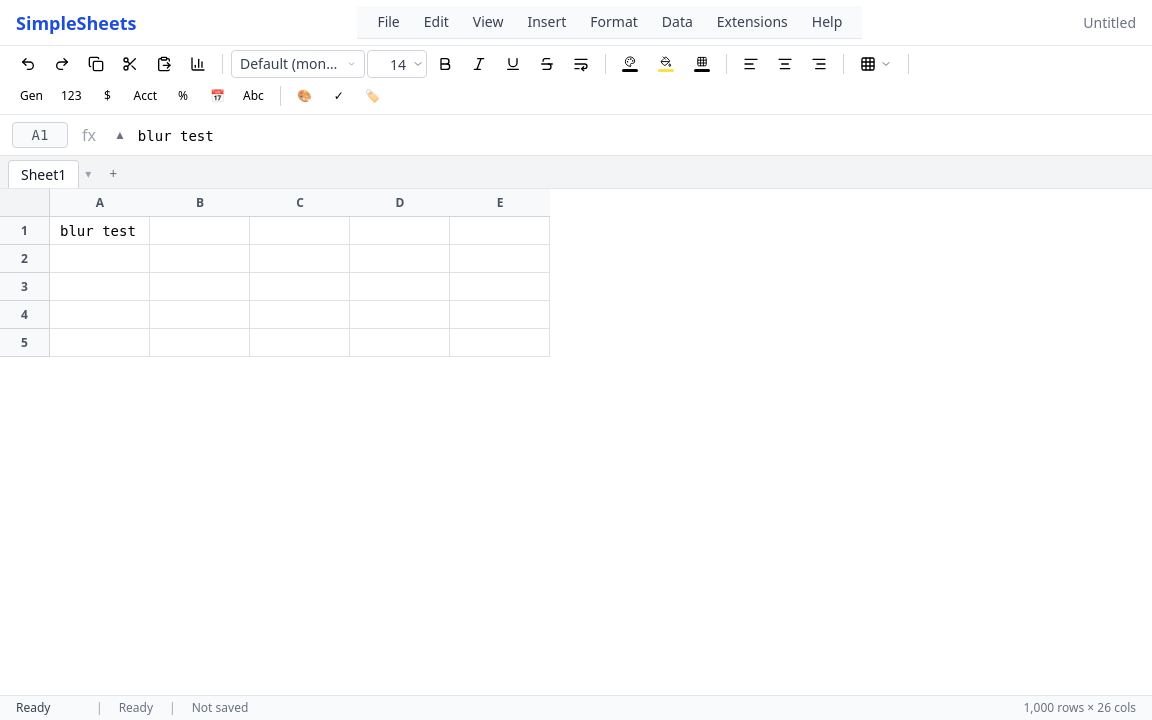
Test: App - Cut Handler Deletes Source Cells › clears source cells after cut
Note: Put a value in A1
Press the mouse on the element with class "grid-cell" showing "blur test" at (100, 231), box [50,217,150,245]
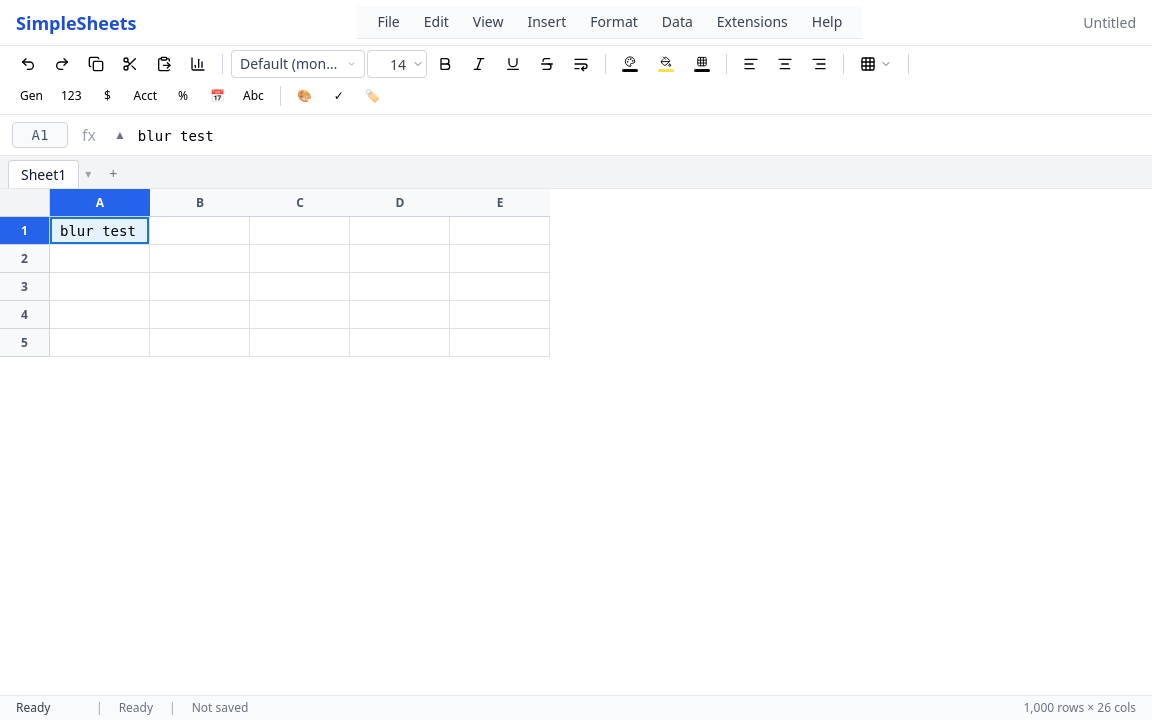
Double-click the element with class "grid-cell" showing "blur test" at (100, 231), box [50,217,150,245]
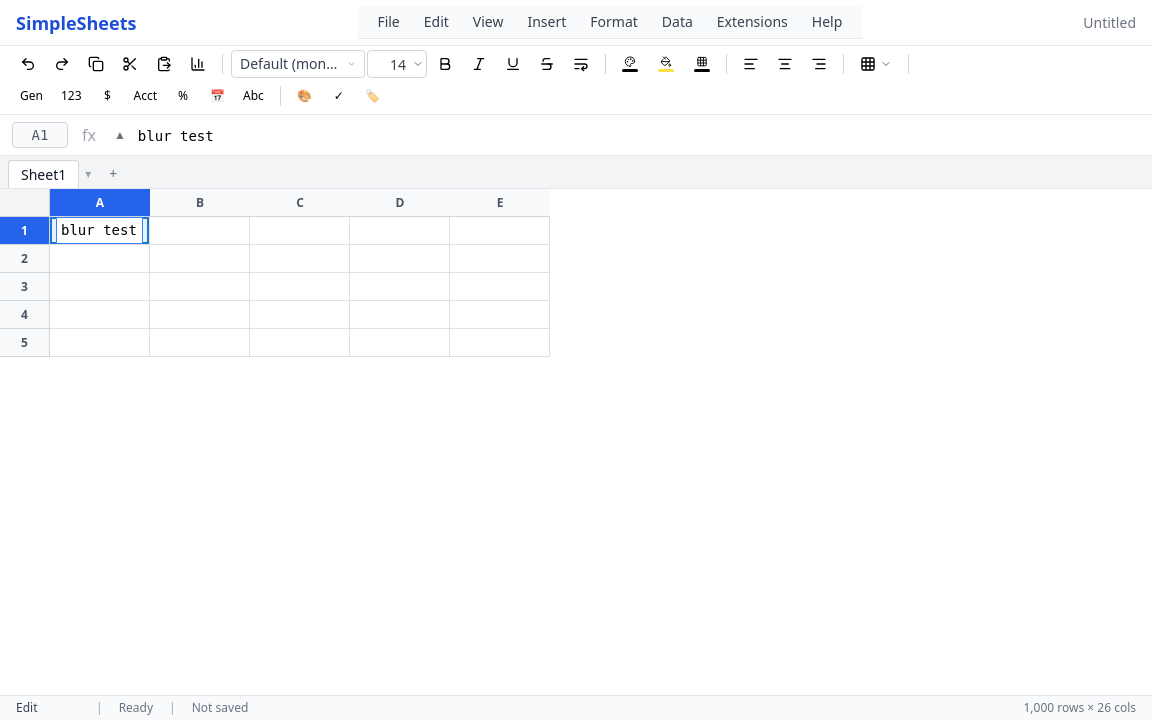
Replace the text in the 1st field with placeholder "Enter a value or formula (e.g., =SUM(A1:A10))" with "cutme" at (639, 136), box [138,126,1140,146]
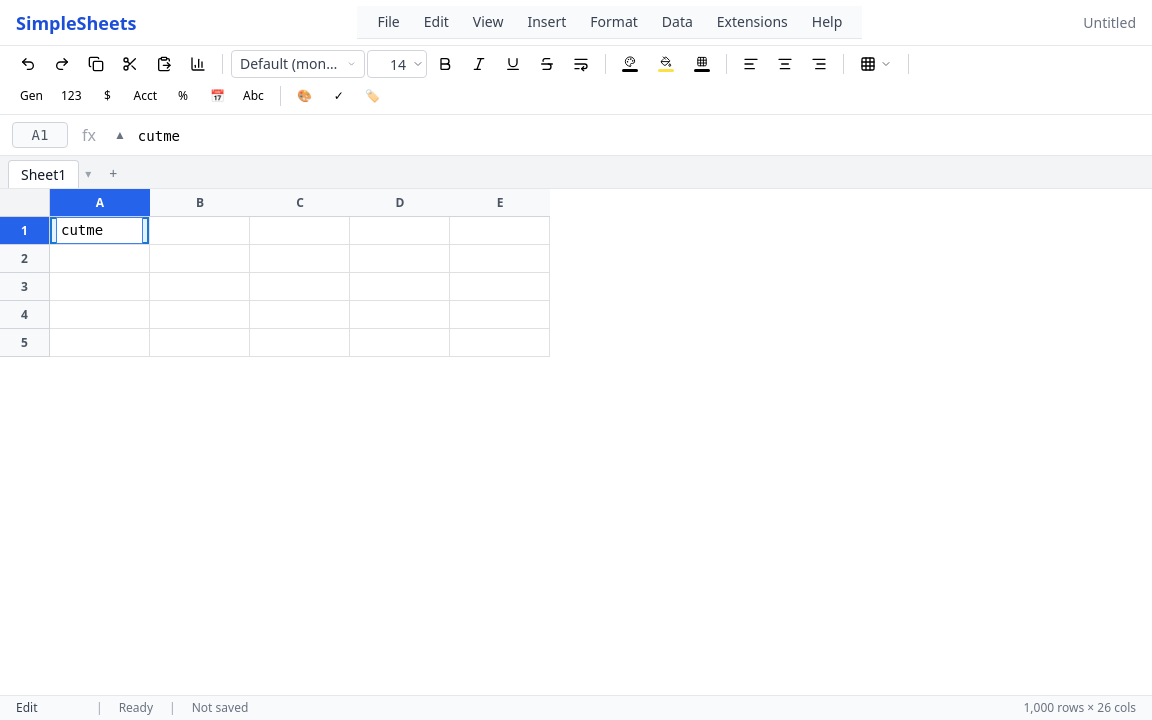
Press Enter in the 1st field with placeholder "Enter a value or formula (e.g., =SUM(A1:A10))", box [138,126,1140,146]
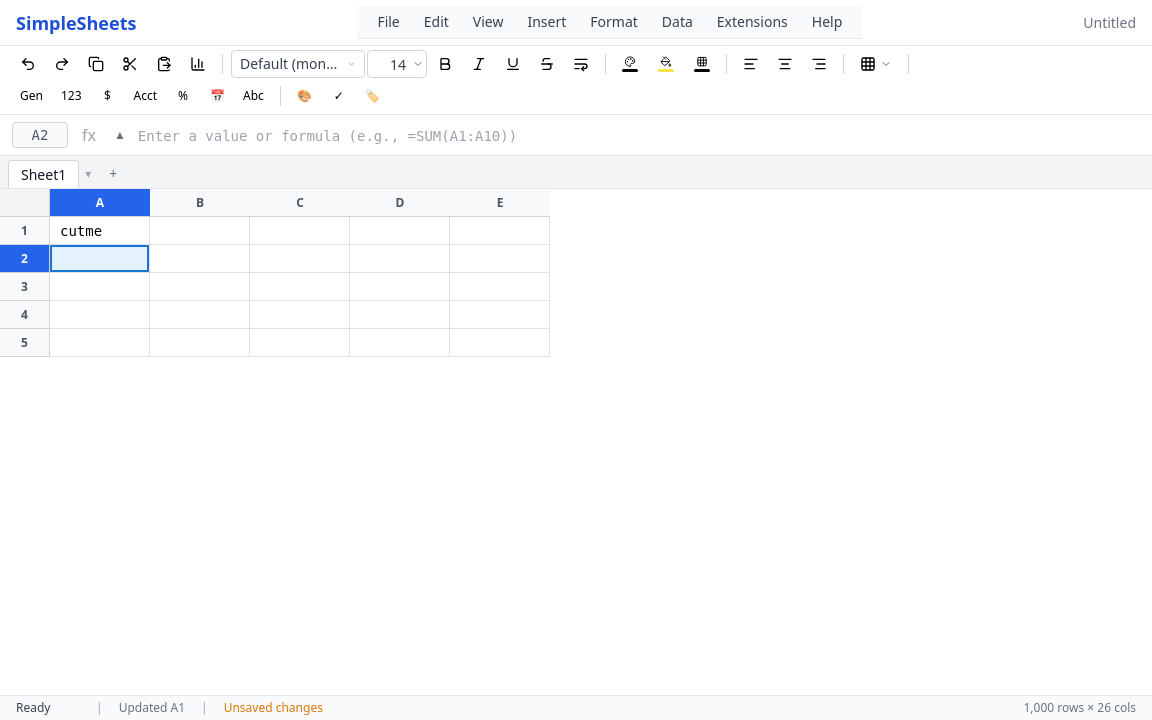
Note: Now cut A1
Press the mouse on the element with class "grid-cell" showing "cutme" at (100, 231), box [50,217,150,245]
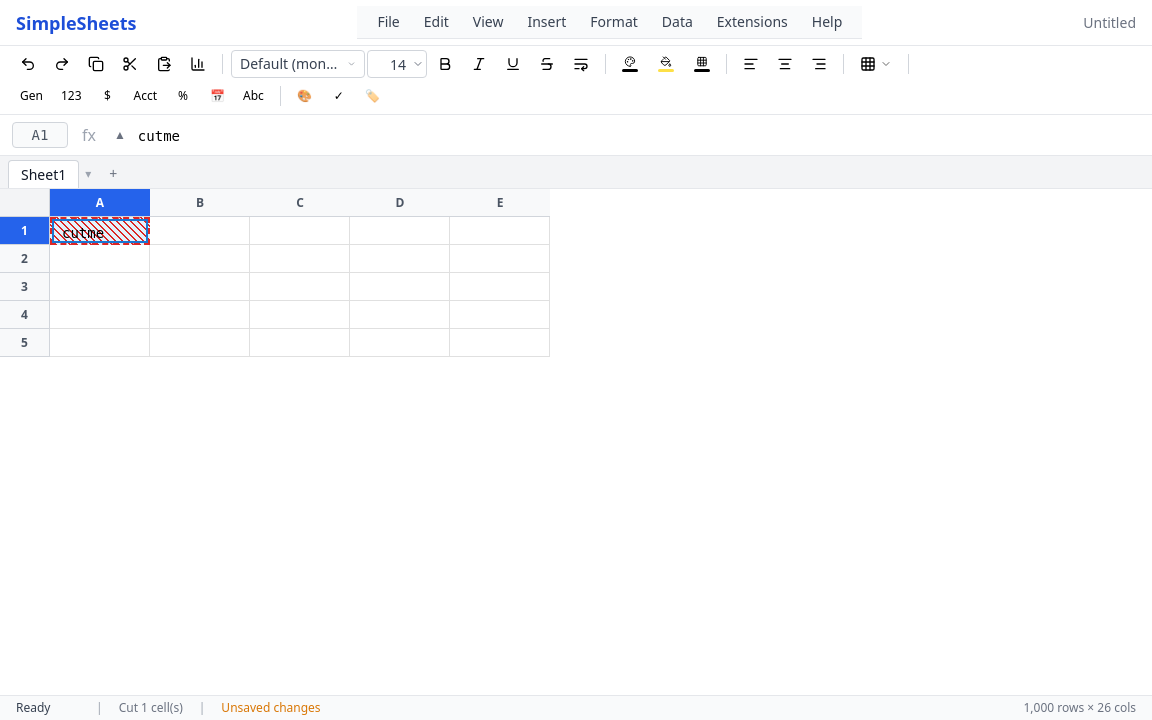
Check: the text with test id "status-message" shows "Cut", box [119,699,183,716]
